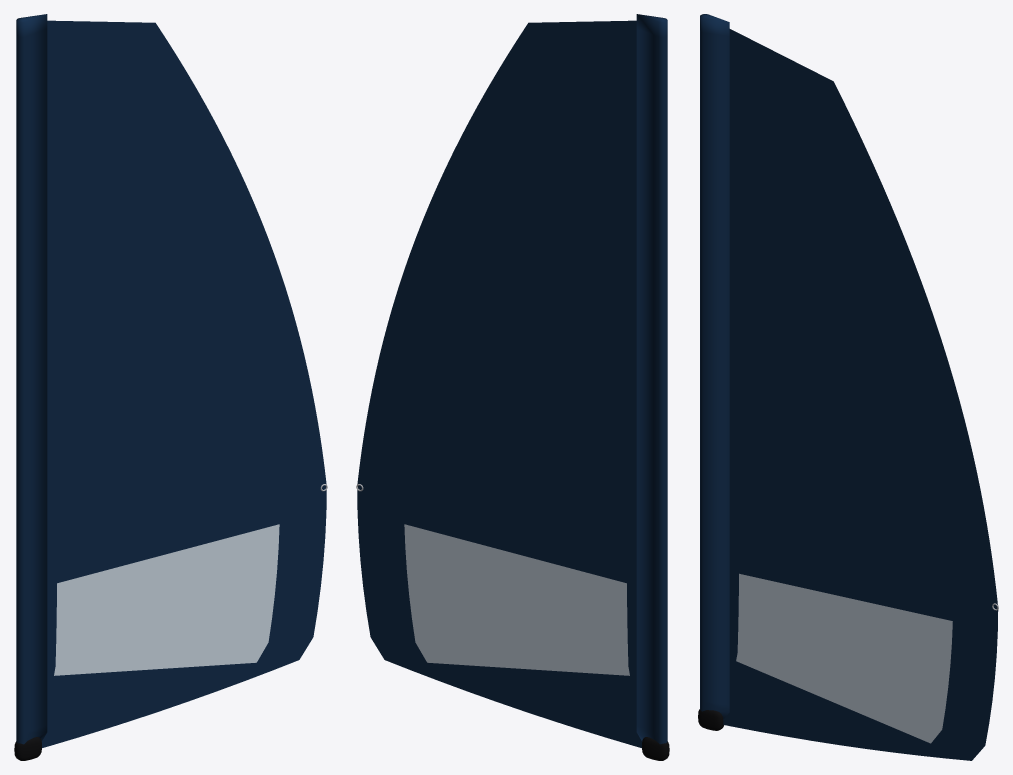
Rendered from southsails_slalom_8_6.glb.
The picture shows the model from 3 angles, left to right: view 1: azimuth 30°, elevation 25°; view 2: azimuth 150°, elevation 25°; view 3: azimuth 330°, elevation 25°; orthographic projection. The views are drawn at different scales.
Parts seen in each view (by area): view 1: SailCloth; view 2: SailCloth; view 3: SailCloth.
Boxes of the visible parts, bbox=[...] form: SailCloth: bbox=[16, 14, 326, 747]; SailCloth: bbox=[357, 14, 667, 747]; SailCloth: bbox=[700, 14, 998, 760].
Bounding box in the file's own units: 2.22 × 5.05 × 0.08.
